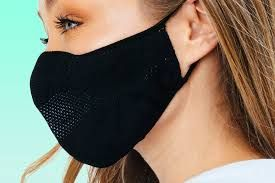with-mask: (13, 1, 221, 169)
